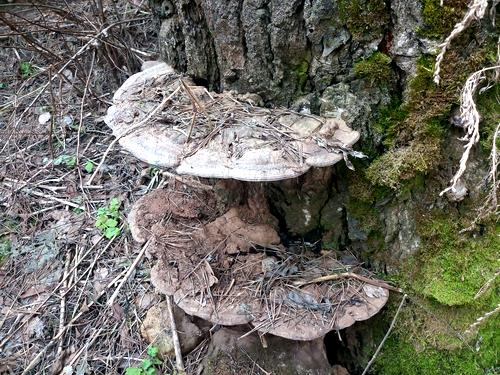Ganoderma - Fruit Body: (129, 192, 390, 339), (109, 61, 362, 181)
